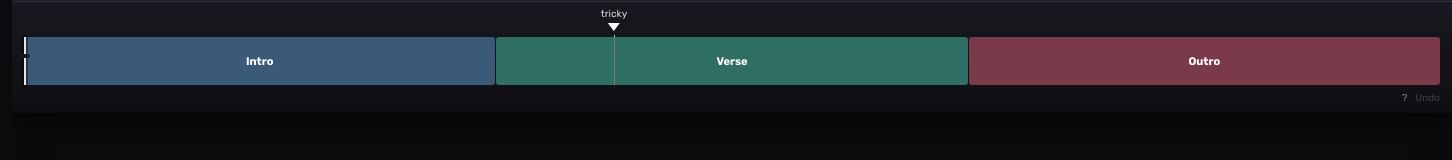
Scenario: SectionStrip — rename, menu, loop › right-click on a section opens a Rename/Merge-right/Merge-left menu
The image size is (1452, 160).
Right-click the text "Verse" at [732, 61], box [716,54,748,68]
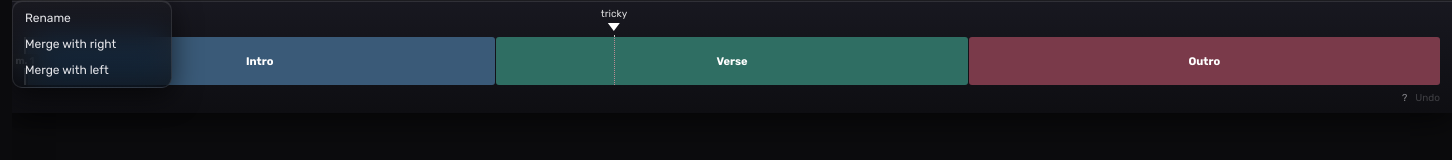
Expected: the button "Rename" is shown, [13,5,171,31]
Expected: the button "Merge with right" is shown, [13,31,171,57]
Expected: the button "Merge with left" is shown, [13,57,171,83]
